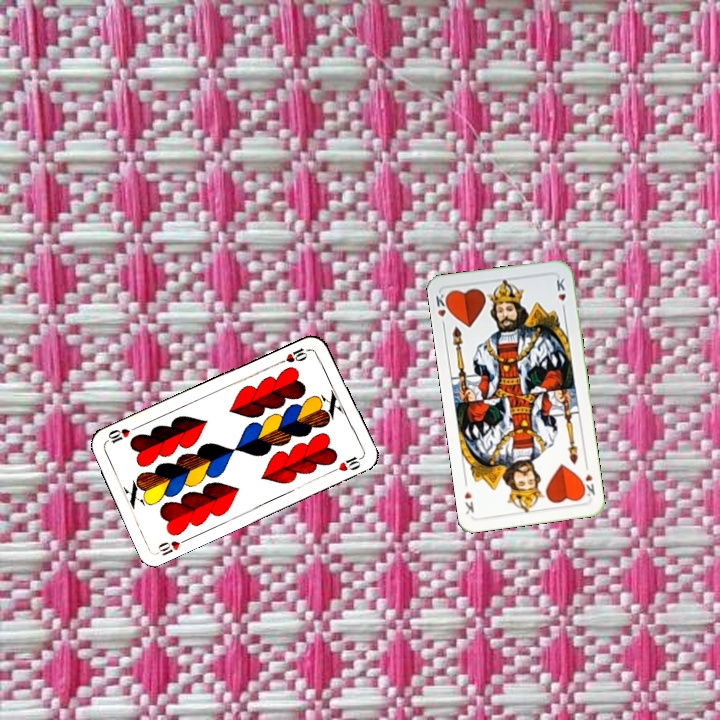H10: (154, 534, 192, 558), (275, 344, 314, 367)
HK: (431, 289, 453, 330), (577, 460, 597, 499)
